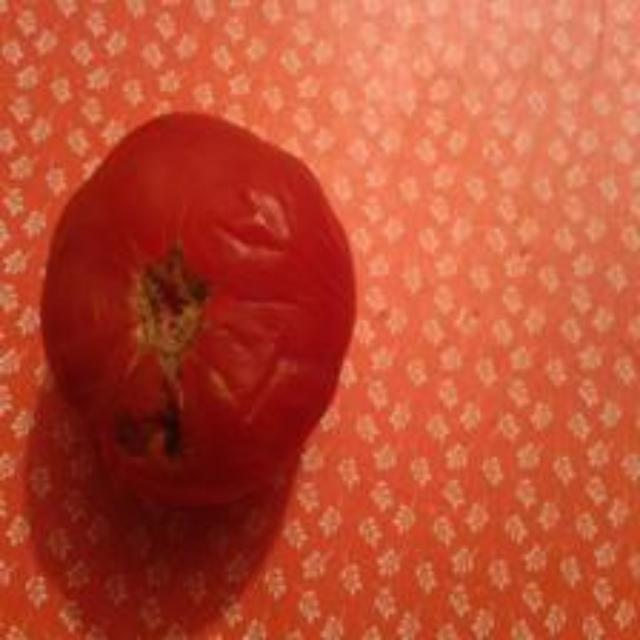defect: (37, 108, 363, 514)
